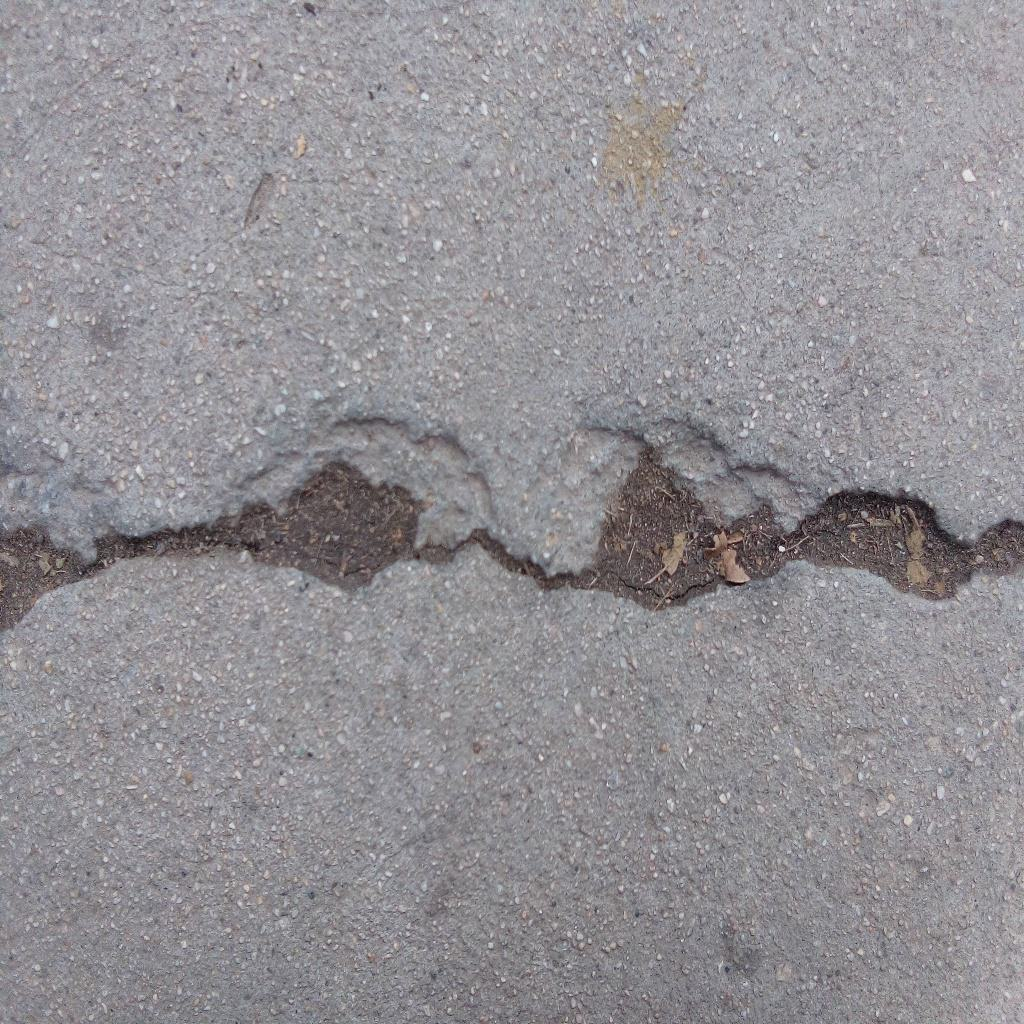Crack: (418, 525, 571, 592)
Spalling: (571, 450, 1024, 614), (1, 462, 418, 632)
